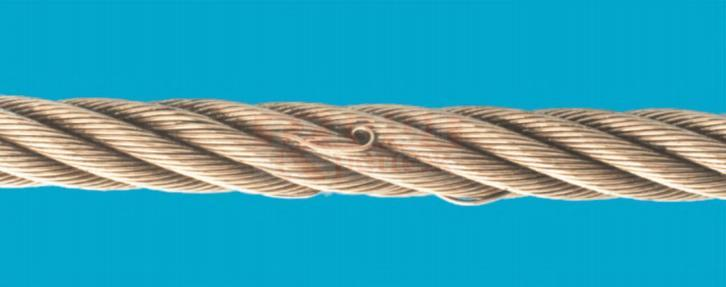break: (308, 120, 376, 159), (433, 183, 512, 210)
